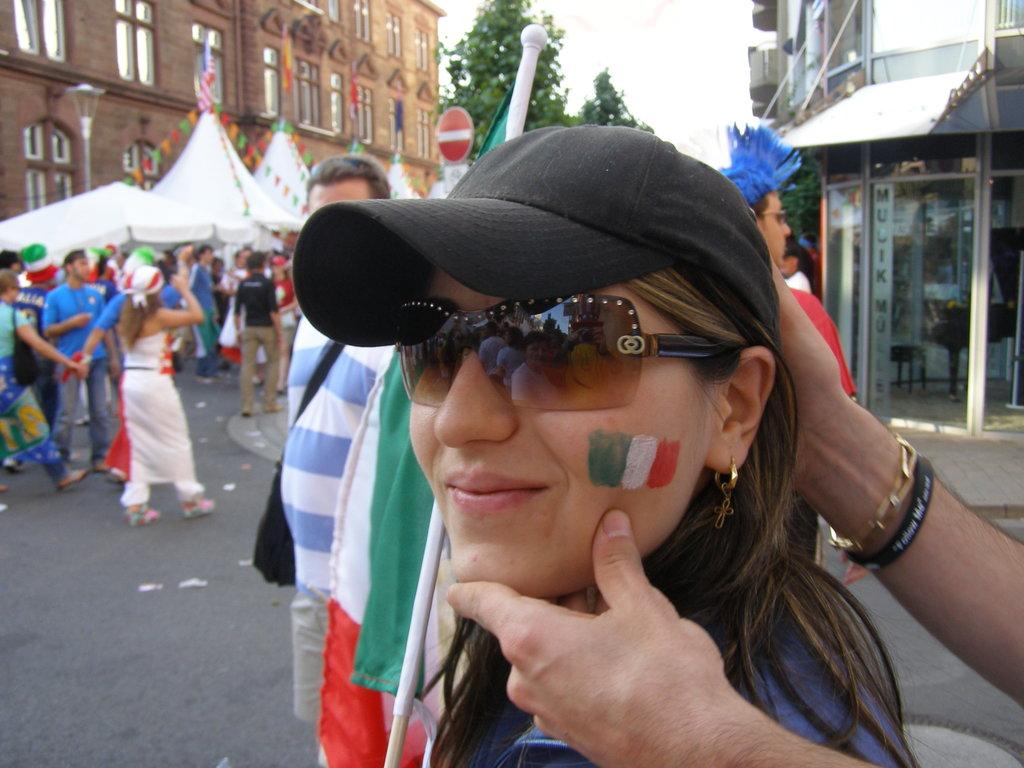Hat: (296, 122, 778, 344)
